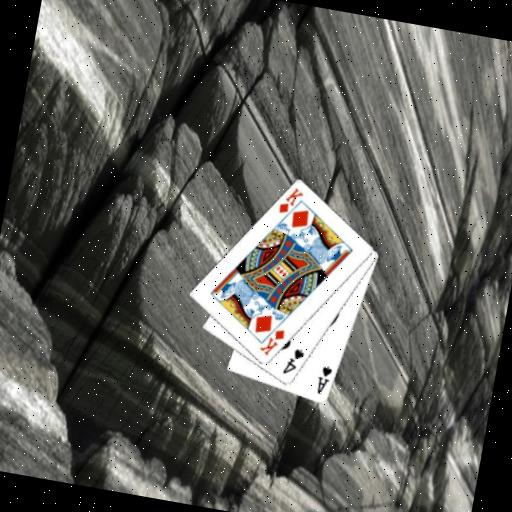4S: (279, 343, 307, 378)
AS: (312, 362, 334, 398)
KD: (255, 323, 287, 360), (274, 182, 306, 219)
